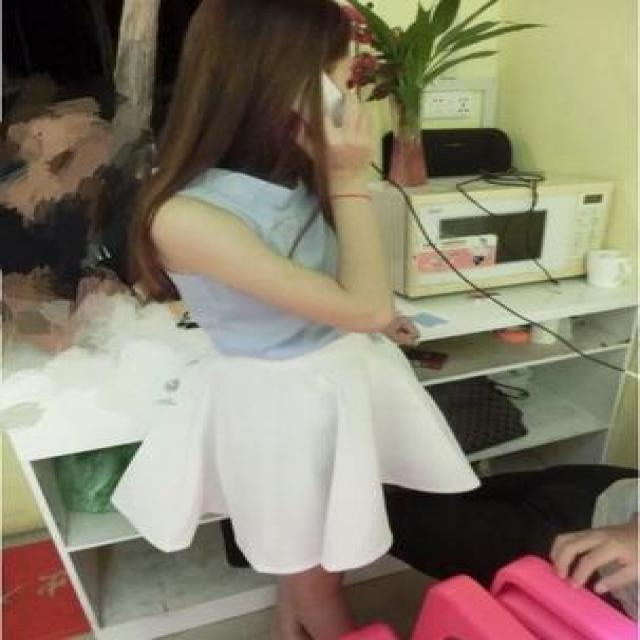skirt: (110, 317, 477, 573)
vest: (173, 152, 368, 357)
